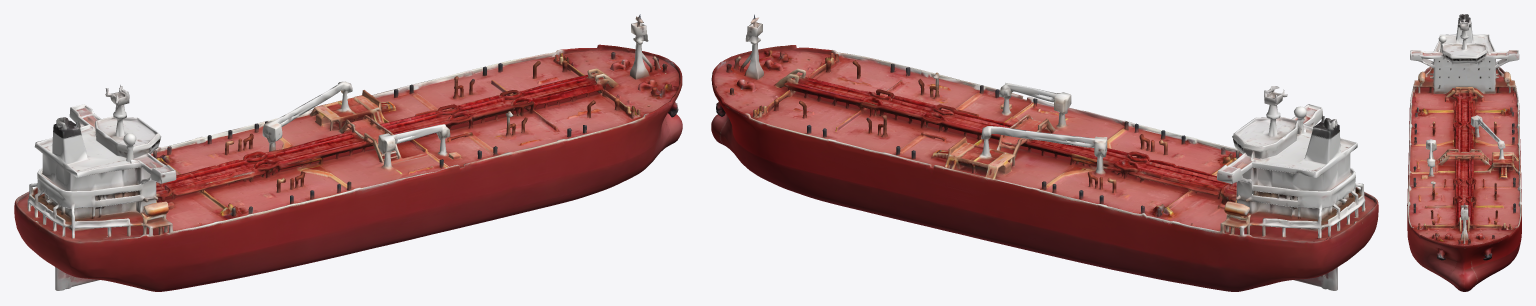
File: tanker.glb
3 views of the same model, side by side, from view 1: azimuth 30°, elevation 25°; view 2: azimuth 150°, elevation 25°; view 3: azimuth 270°, elevation 25° (orthographic). The views are drawn at different scales.
Visible parts, largest first — view 1: tripo_node_bb591f4c-d532-4d60-a9a9-15012554d678; view 2: tripo_node_bb591f4c-d532-4d60-a9a9-15012554d678; view 3: tripo_node_bb591f4c-d532-4d60-a9a9-15012554d678.
Part boxes in pixels (x1,y1,x2,y2): tripo_node_bb591f4c-d532-4d60-a9a9-15012554d678: (14,14,682,291); tripo_node_bb591f4c-d532-4d60-a9a9-15012554d678: (711,14,1378,291); tripo_node_bb591f4c-d532-4d60-a9a9-15012554d678: (1407,14,1521,291).
Bounding box in the file's own units: 1 × 0.2814 × 0.2588.
Materials: 1 (1 with a texture image).
